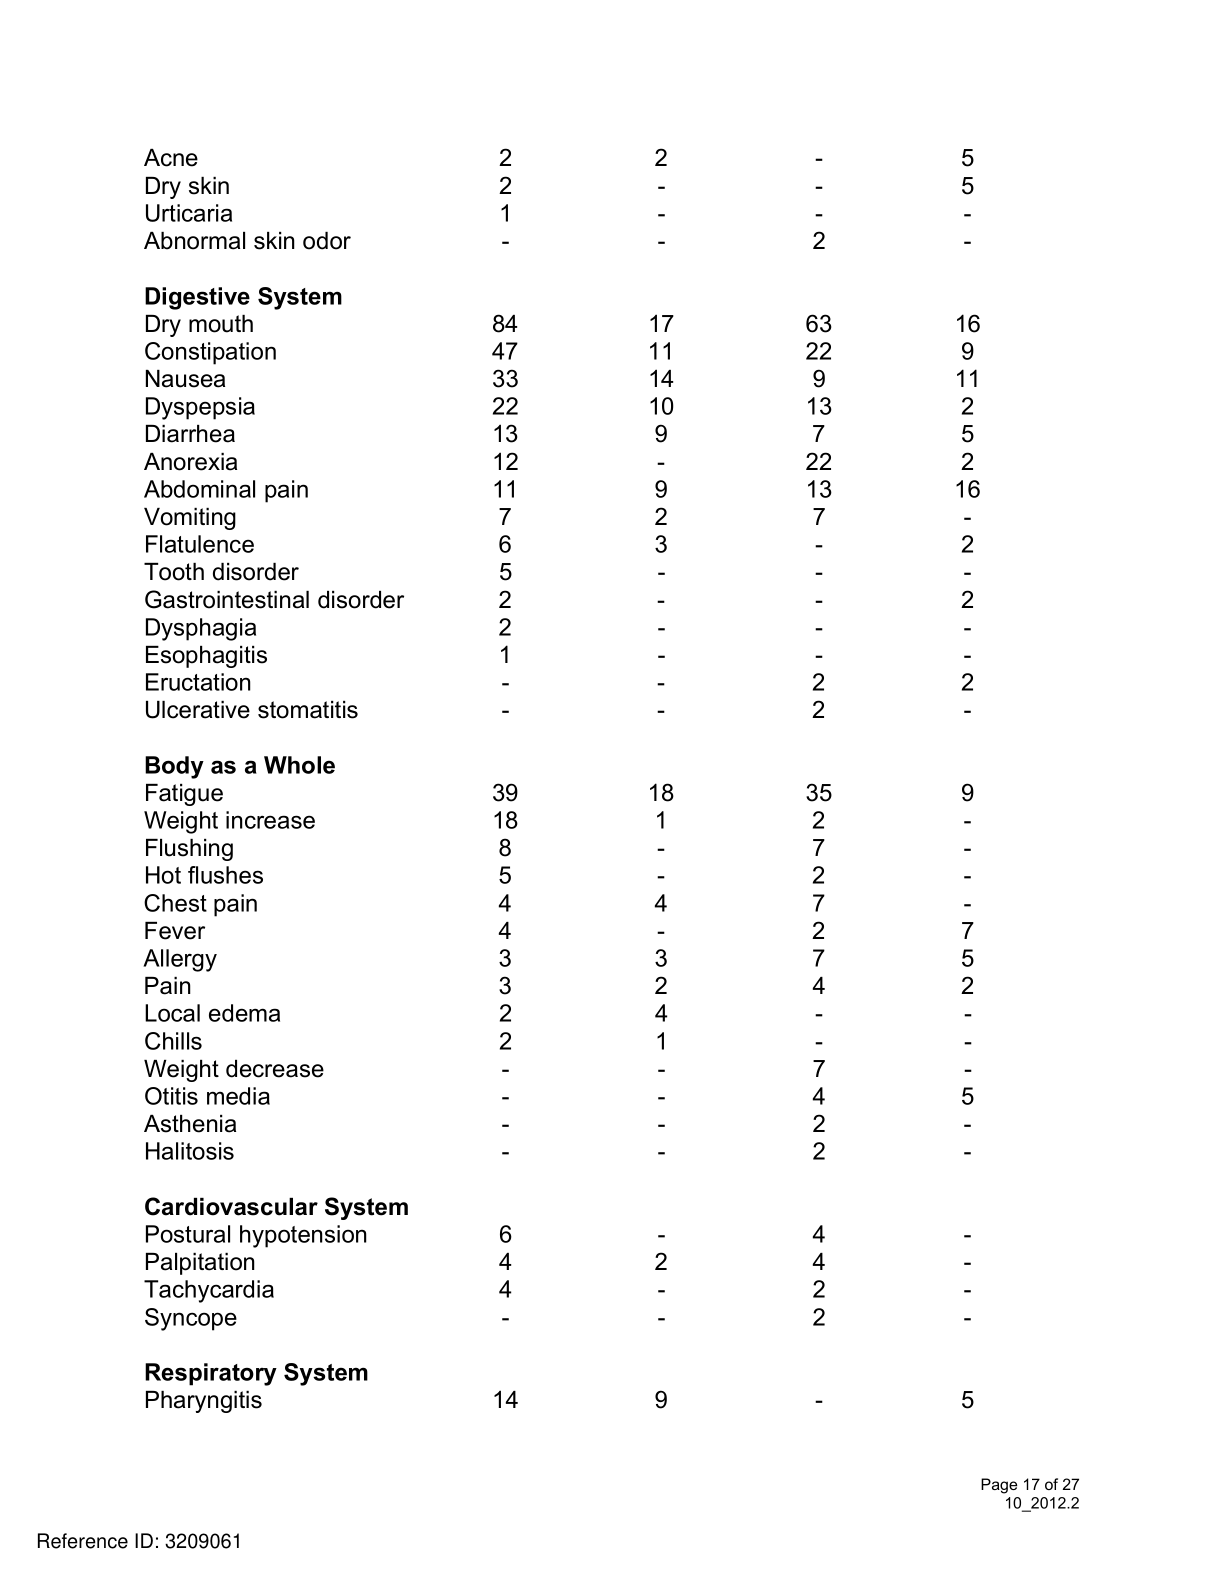nolines: (138, 141, 984, 1416)
